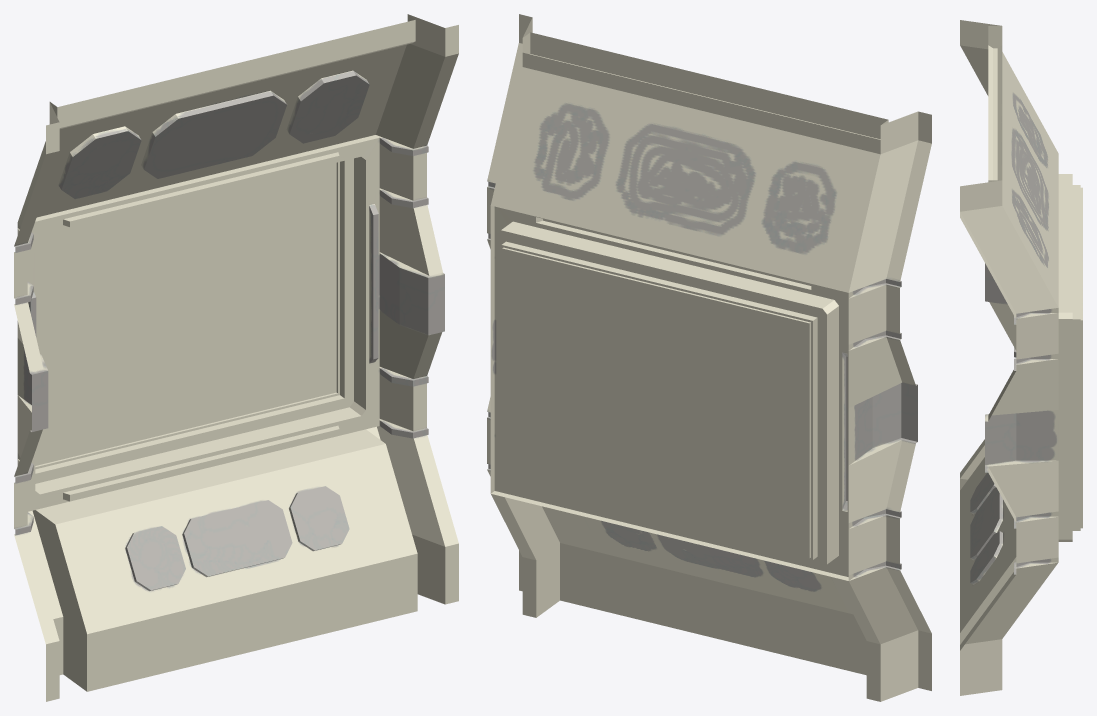
The model's file is Wall_straight_small.fbx.
3 renders of one model, left to right at view 1: azimuth 30°, elevation 25°; view 2: azimuth 150°, elevation 25°; view 3: azimuth 270°, elevation 25°, orthographic. The views are drawn at different scales.
Parts seen in each view (by area): view 1: node_id9 (×3); view 2: node_id9 (×3); view 3: node_id9 (×2).
Boxes of the visible parts, x1,y1,x2,y2 form: node_id9 (×3): [14, 14, 458, 701]; node_id9 (×3): [487, 14, 931, 701]; node_id9 (×2): [960, 20, 1082, 695].
Size of the model in its own units: 0.384 by 0.512 by 0.1118.
Materials: 4 (4 with a texture image).
